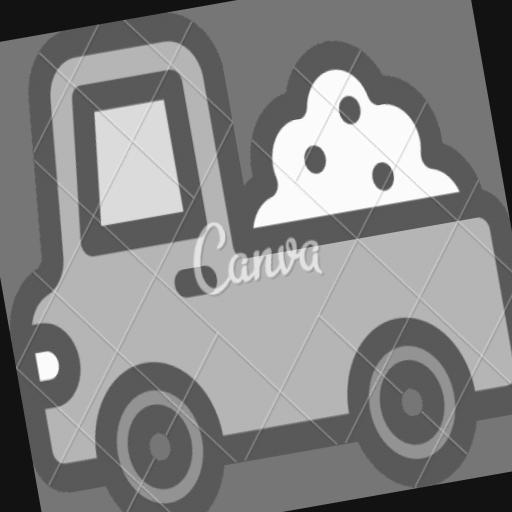truck: (10, 14, 512, 512)
